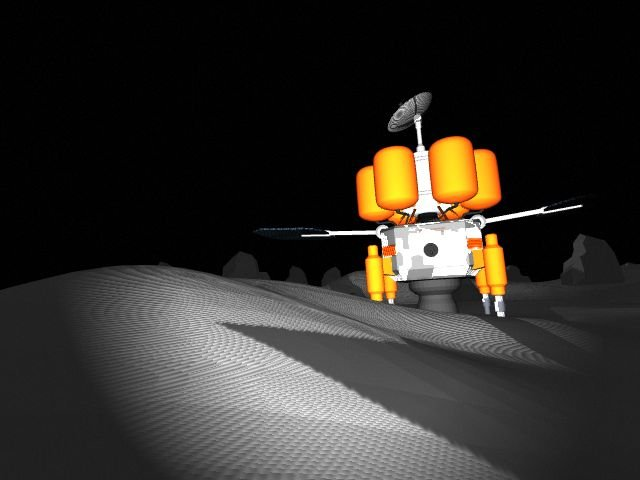homebase: (247, 90, 615, 322)
